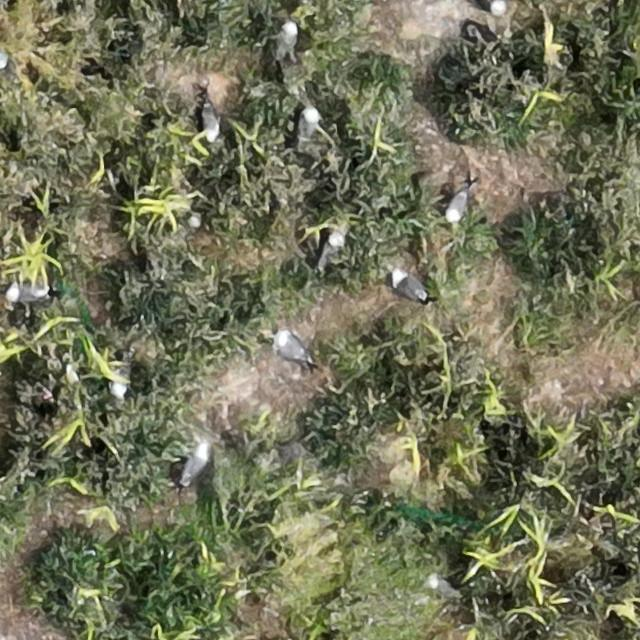umineko: (111, 355, 136, 396), (320, 228, 344, 268), (394, 271, 427, 300), (277, 333, 309, 362), (182, 446, 208, 481), (446, 188, 468, 220), (7, 284, 46, 302), (200, 105, 218, 140), (299, 107, 319, 137), (282, 20, 298, 51), (0, 47, 6, 70)
